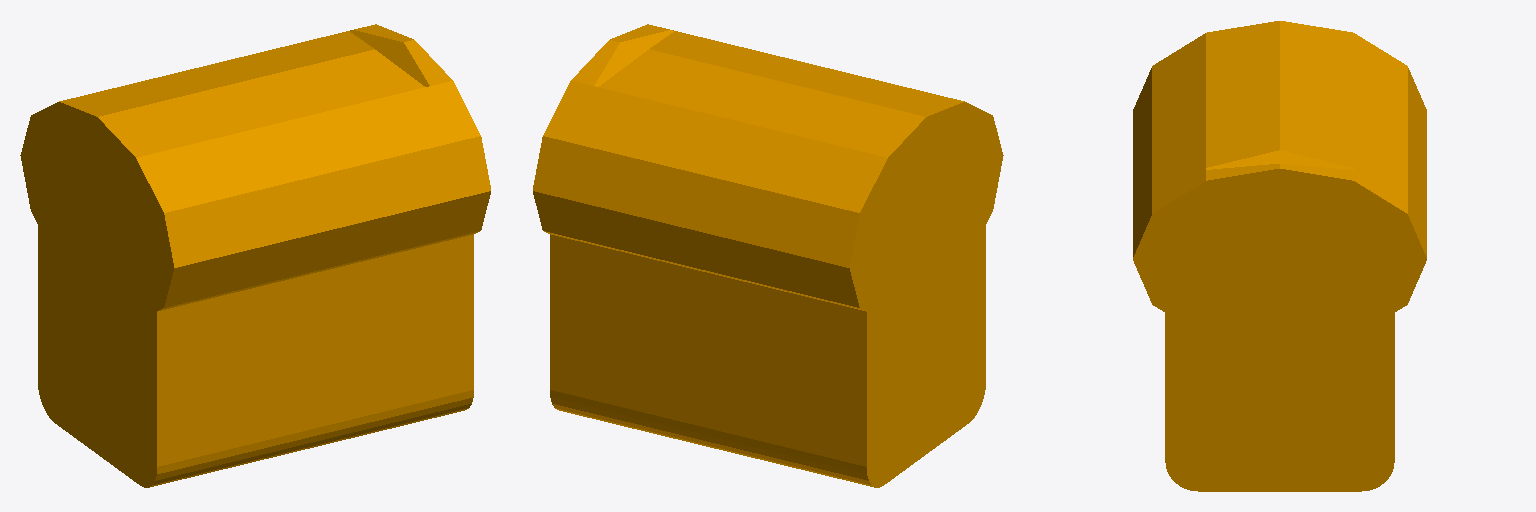
robot.urdf — bread:
<?xml version="1.0"?>
<robot name="bread">
  <link name="bread">
    <inertial>
        <origin rpy="0 0 0" xyz="0 0 0"/>
        <mass value="0.01"/>
        <inertia ixx="2.4e-3" ixy="0" ixz="0" iyy="4e-3" iyz="0" izz="3.7e-3"/>
    </inertial>
    <visual>
      <geometry>
        <mesh filename="breadS2_visual.obj"/>
      </geometry>
    </visual>
    <collision>
      <geometry>
        <mesh filename="breadS2_collision.obj"/>
      </geometry>
    </collision>
  </link>
</robot>

--- Facts derived from the render (not from the file) ---
The picture shows the robot from 3 angles, left to right: view 1: azimuth 30°, elevation 25°; view 2: azimuth 150°, elevation 25°; view 3: azimuth 270°, elevation 25°; orthographic projection.
Robot: bread — 1 links, 0 joints (none); root link bread; default pose: all joints at 0.
Visible links, largest first — view 1: bread; view 2: bread; view 3: bread.
Link boxes in pixels (<box>): bread: <box>20,24,490,487</box>; bread: <box>533,24,1003,487</box>; bread: <box>1133,21,1426,491</box>.
Size in the robot's own frame: 0.3006 by 0.2528 by 0.3056 metres.
Meshes: 1 distinct files referenced, 1 mesh visuals loaded (1 OBJ).
